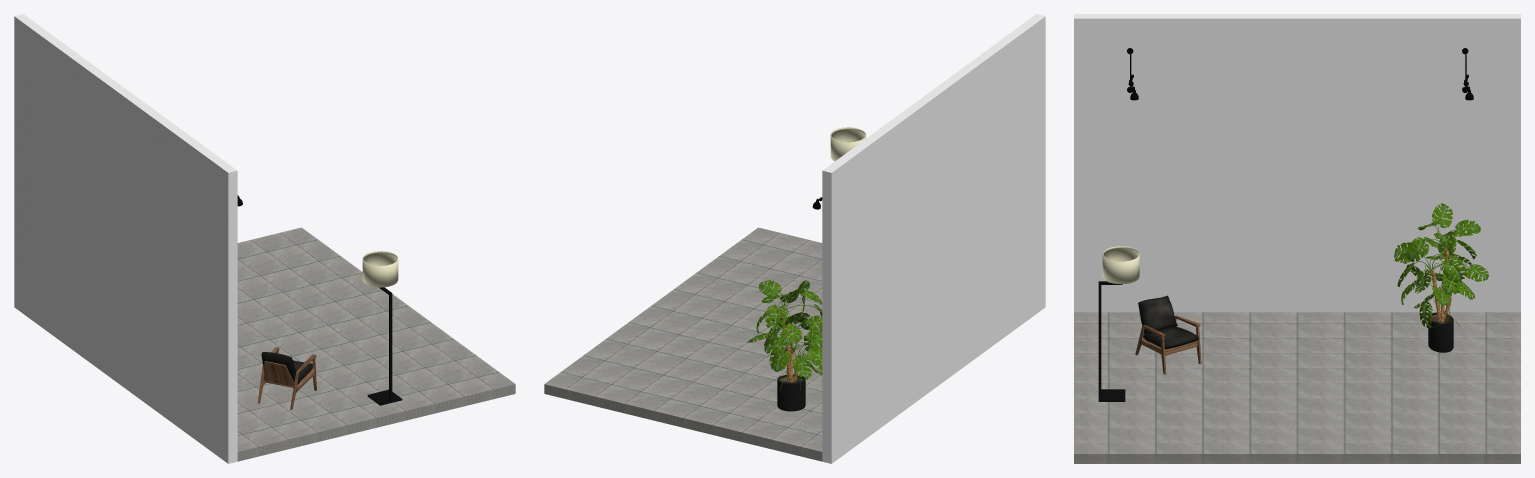
File: neonroom.blackwall.glb
3 renders of one model, left to right at view 1: azimuth 30°, elevation 25°; view 2: azimuth 150°, elevation 25°; view 3: azimuth 270°, elevation 25°, orthographic. The views are drawn at different scales.
Parts seen in each view (by area): view 1: Cube.001, Cube, modern_arm_chair_01, Shade, Stand; view 2: Cube.001, Cube, Big Monstera plant, Shade; view 3: Cube.001, Cube, modern_arm_chair_01, Shade, Big Monstera plant, Stand, plant.015.
Part boxes in pixels (x1,y1,x2,y2): Cube.001: (14,14,237,463); Cube: (237,227,515,461); modern_arm_chair_01: (258,347,316,409); Shade: (362,251,398,287); Stand: (367,287,402,405); Cube.001: (822,14,1045,463); Cube: (544,227,822,461); Big Monstera plant: (777,374,805,411); Shade: (830,127,866,160); Cube.001: (1074,14,1520,312); Cube: (1074,312,1520,463); modern_arm_chair_01: (1135,295,1201,374); Shade: (1102,246,1139,284); Big Monstera plant: (1428,312,1453,352); Stand: (1098,281,1125,401); plant.015: (1441,255,1466,282).
Size of the model in its own units: 6.2 by 6 by 8.
14 materials, 6 textured.
